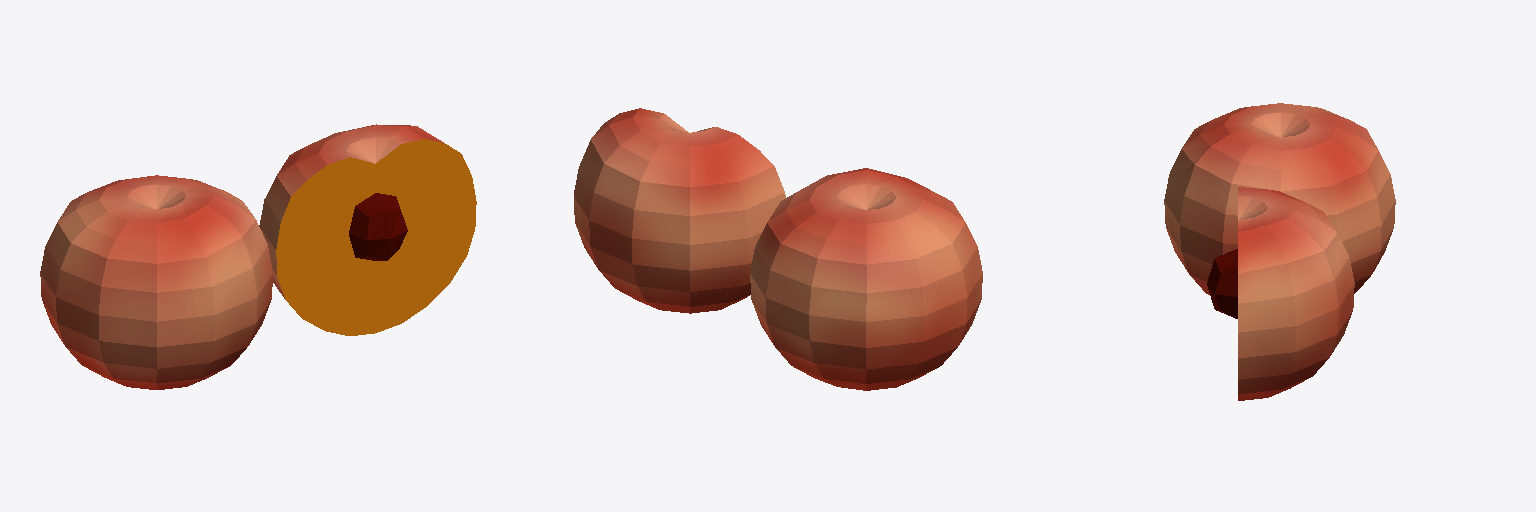
3 renders of one model, left to right at view 1: azimuth 30°, elevation 25°; view 2: azimuth 150°, elevation 25°; view 3: azimuth 270°, elevation 25°, orthographic.
Size of the model in its own units: 4.03 by 1.92 by 2.02.
3 materials, 1 textured.